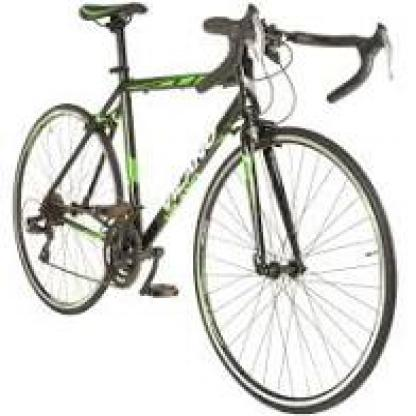Bike: (2, 0, 400, 414)
